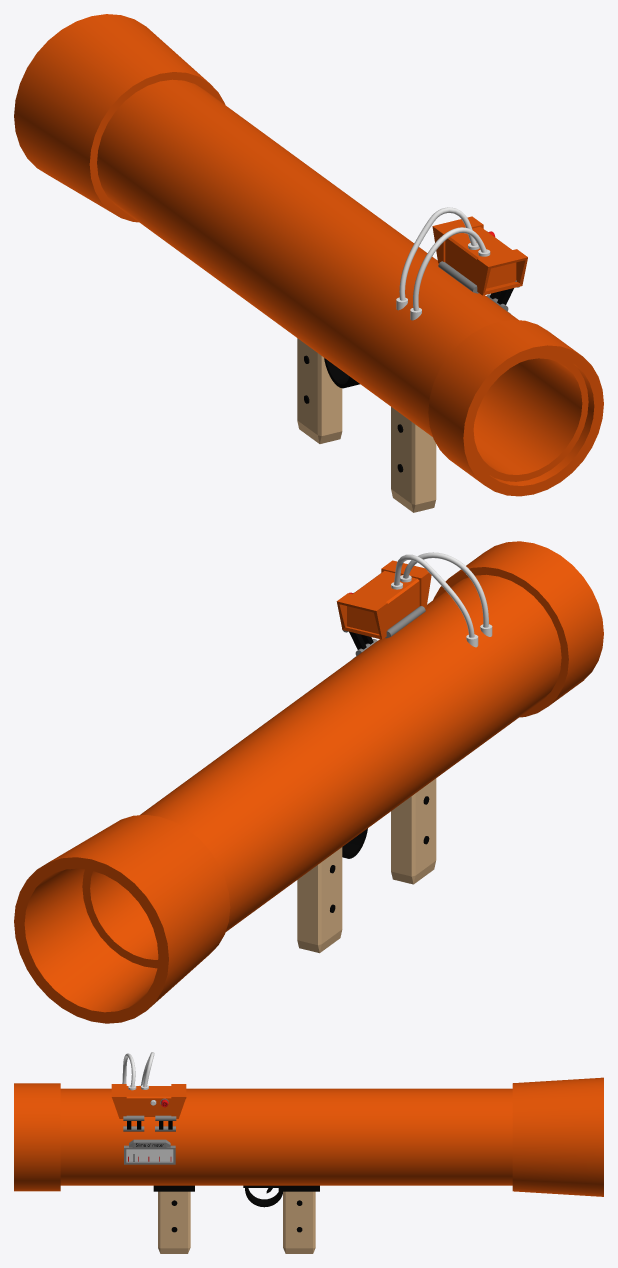
File: greenballlauncher.fbx
3 renders of one model, top to bottom at view 1: azimuth 30°, elevation 25°; view 2: azimuth 150°, elevation 25°; view 3: azimuth 270°, elevation 25°, orthographic. The views are drawn at different scales.
Visible parts, largest first — view 1: Cylinder, Cylinder.002, Cylinder.001, Cube, Cube.002, Cube.005, Cube.013, NurbsPath.001, NurbsPath; view 2: Cylinder, Cylinder.002, Cylinder.001, Cube, Cube.002, Cube.005, Cube.006, NurbsPath.001, NurbsPath, Cube.013; view 3: Cylinder, Cylinder.002, Cylinder.001, Cube, Cube.002, Cube.005, Cube.015, Cube.006, Cube.013, Cube.014, Cube.003, Cube.016 (+3 smaller).
Part boxes in pixels (x1,y1,x2,y2): Cylinder: (97,79,588,481); Cylinder.002: (14,14,225,222); Cylinder.001: (428,319,603,496); Cube: (391,407,436,512); Cube.002: (297,338,342,443); Cube.005: (445,227,511,285); Cube.013: (477,249,527,295); NurbsPath.001: (399,207,476,300); NurbsPath: (413,227,486,310); Cylinder: (82,574,561,968); Cylinder.002: (14,815,230,1023); Cylinder.001: (433,541,603,717); Cube: (391,778,436,884); Cube.002: (297,847,342,953); Cube.005: (352,571,419,629); Cube.006: (336,593,387,639); NurbsPath.001: (394,554,474,637); NurbsPath: (403,552,488,627); Cube.013: (381,560,431,607); Cylinder: (60,1088,512,1185); Cylinder.002: (512,1077,603,1196); Cylinder.001: (14,1083,60,1191); Cube: (158,1191,190,1253); Cube.002: (283,1191,315,1253); Cube.005: (126,1086,171,1116); Cube.015: (126,1149,173,1161); Cube.006: (171,1084,186,1118); Cube.013: (111,1084,126,1118); Cube.014: (124,1145,175,1164); Cube.003: (243,1185,319,1191); Cube.016: (129,1139,170,1147).
Size of the model in its own units: 382 by 714 by 1887.
8 materials, 3 textured.
